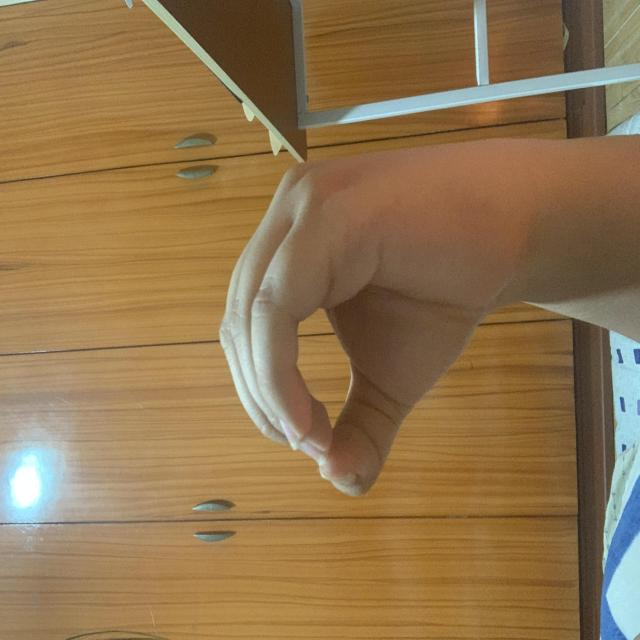O: (151, 218, 498, 510)
